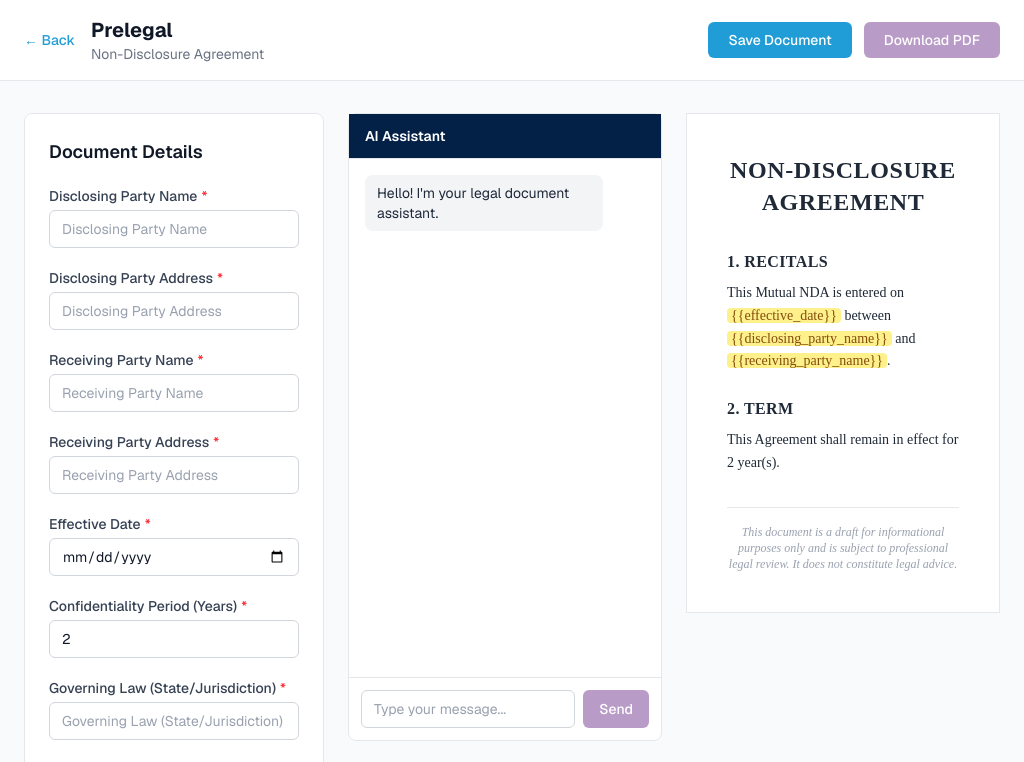
Test: DocumentPage › enables Download PDF button when all required fields are filled
Type "Acme Corp" into the field labelled "Disclosing Party Name*" at (174, 229), box [49,210,299,248]
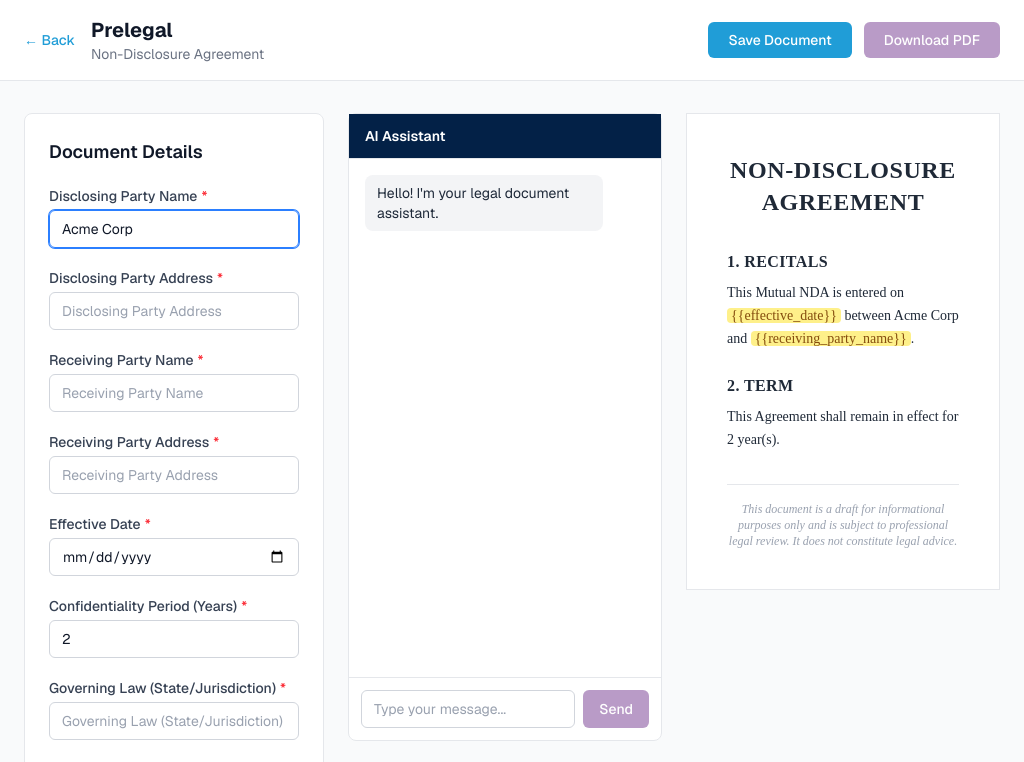
Type "123 Main St" into the field labelled "Disclosing Party Address*" at (174, 311), box [49,292,299,330]
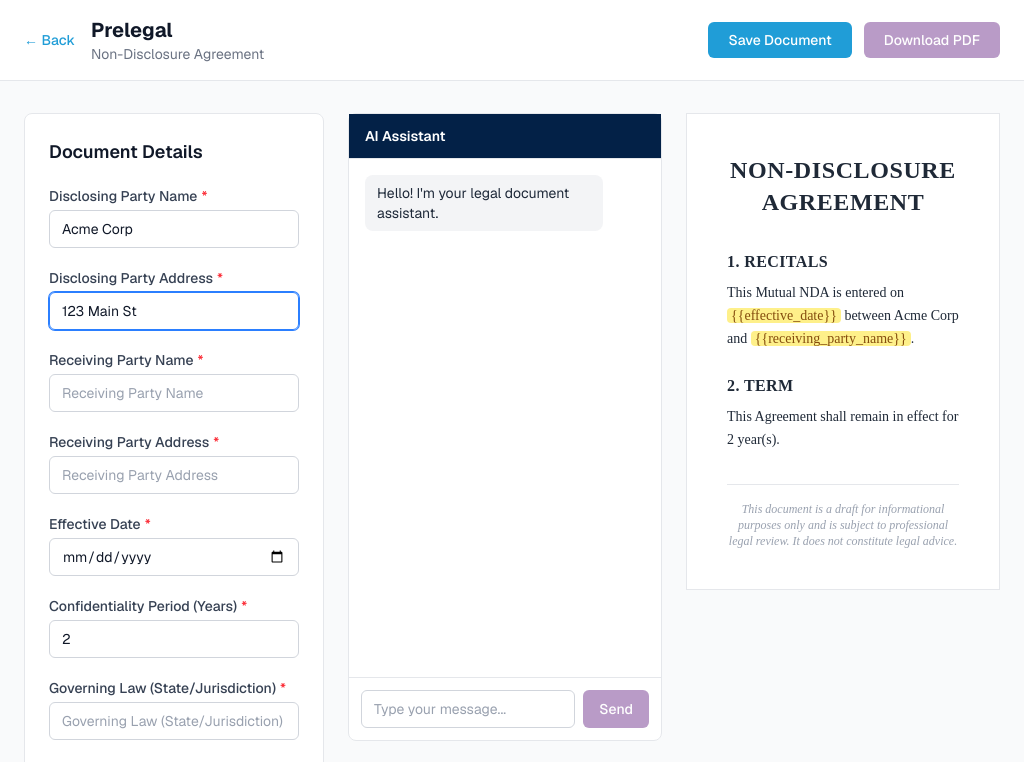
Type "Widget Inc" into the field labelled "Receiving Party Name*" at (174, 393), box [49,374,299,412]
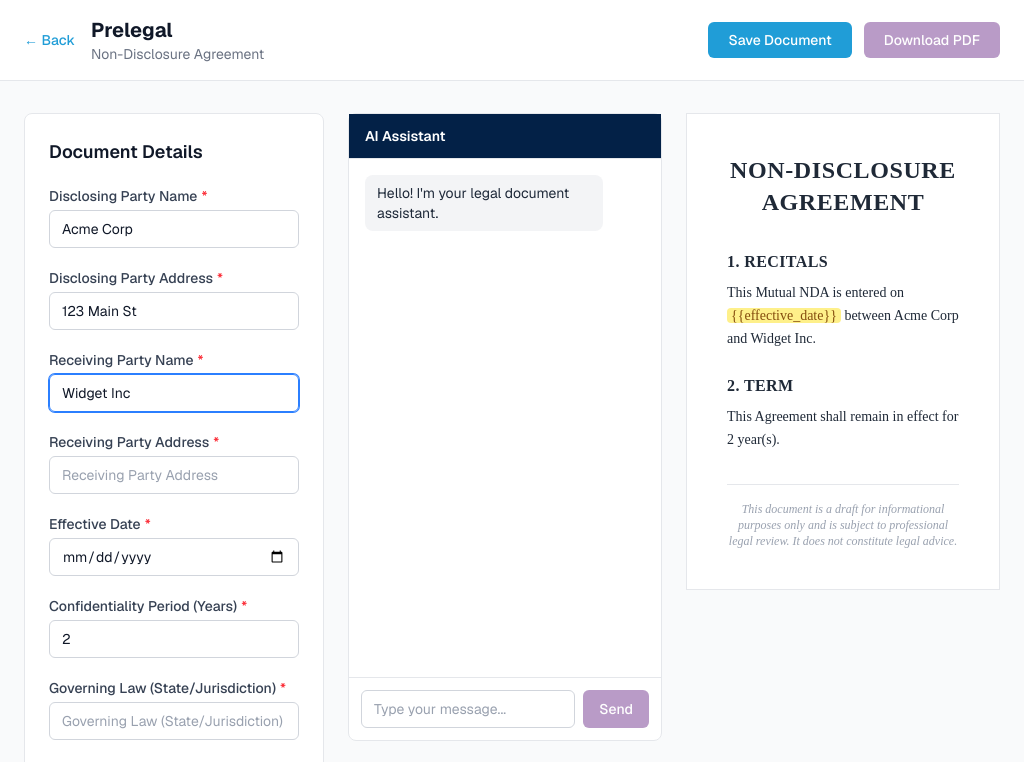
Type "456 Oak Ave" into the field labelled "Receiving Party Address*" at (174, 475), box [49,456,299,494]
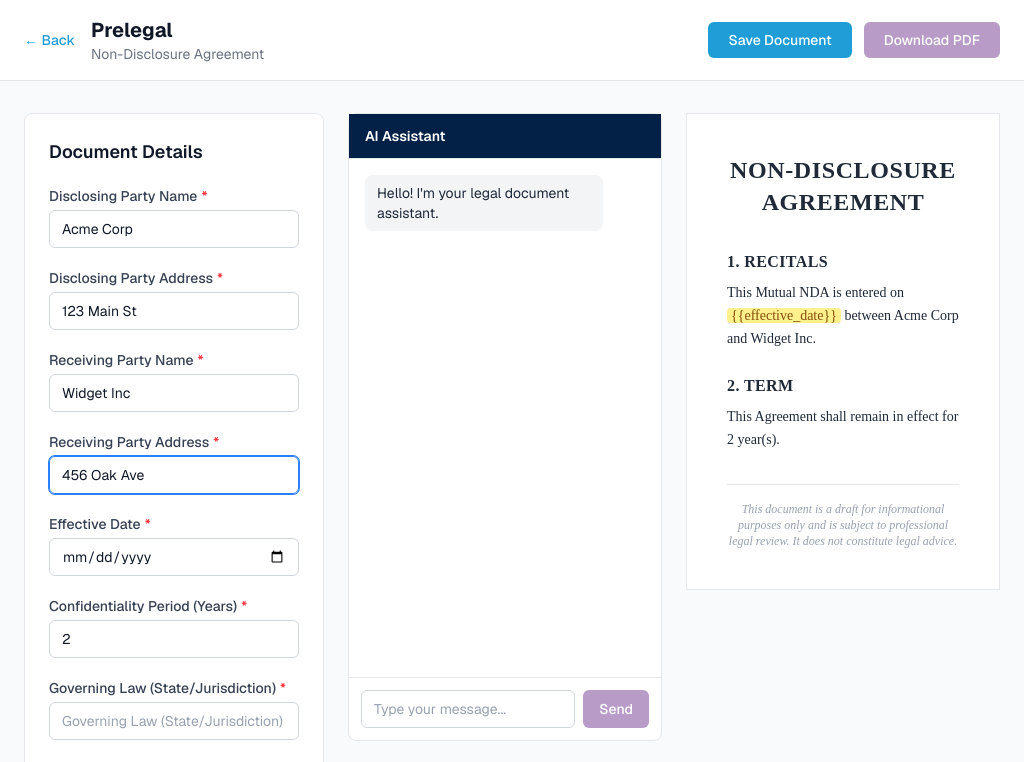
Type "2026-04-04" into the date field labelled "Effective Date*" at (174, 557), box [49,538,299,576]
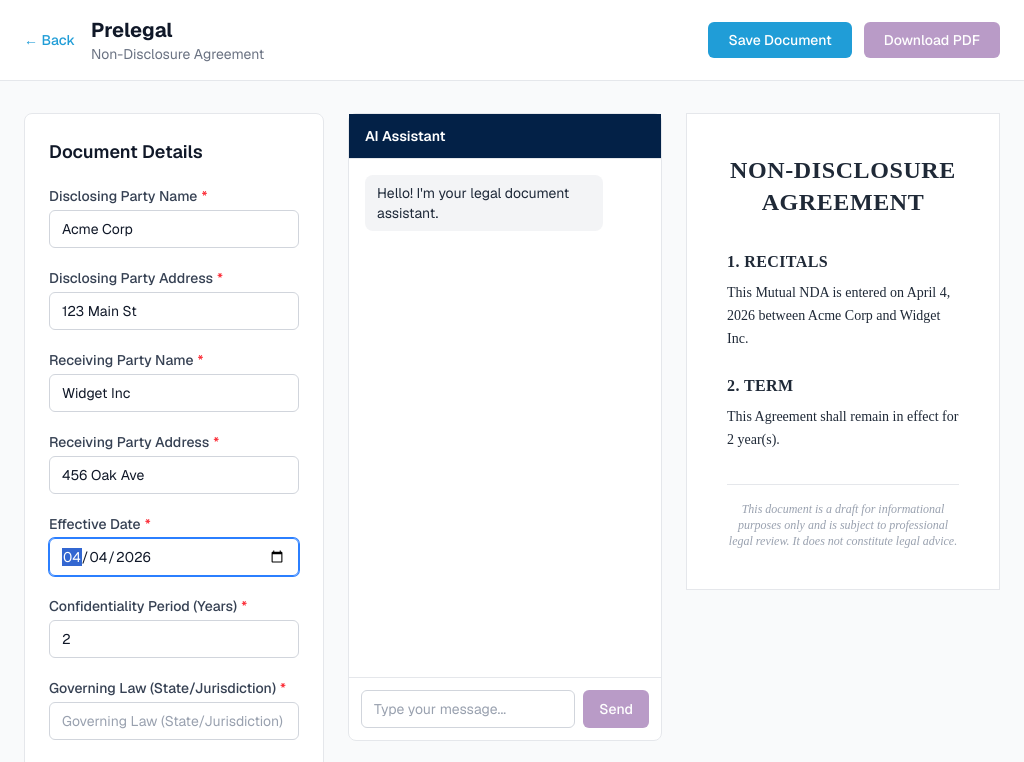
Type "California" into the field labelled "Governing Law (State/Jurisdiction)*" at (174, 721), box [49,702,299,740]
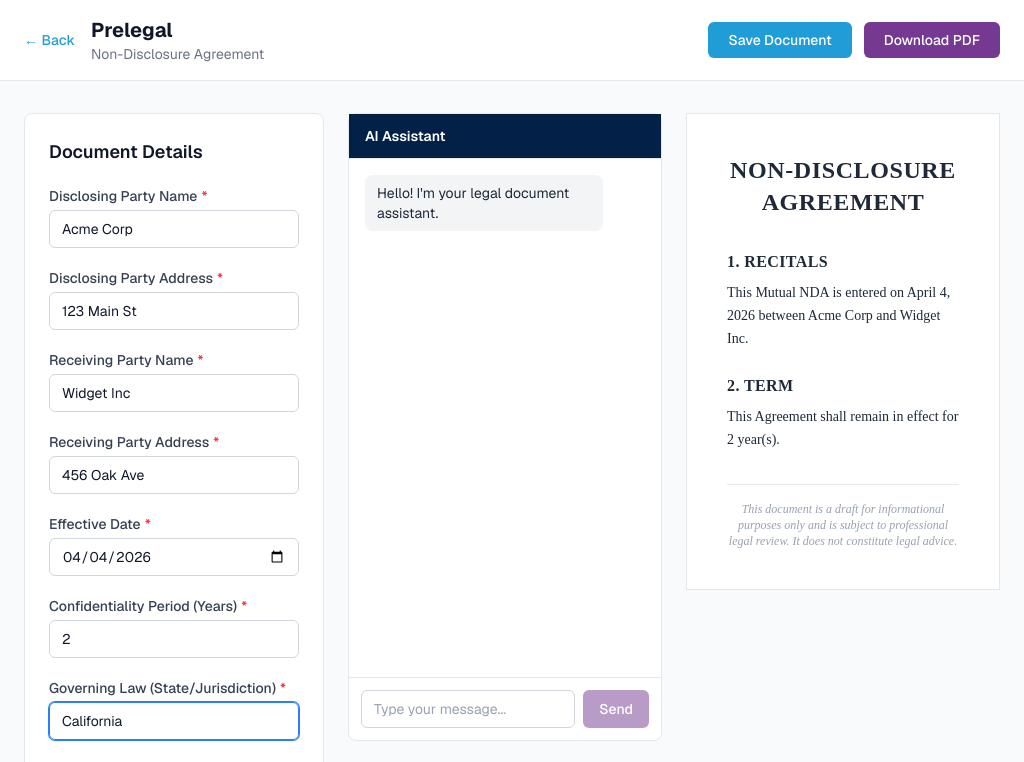
Expected: the button "Download PDF" is enabled, [864,22,1000,58]
